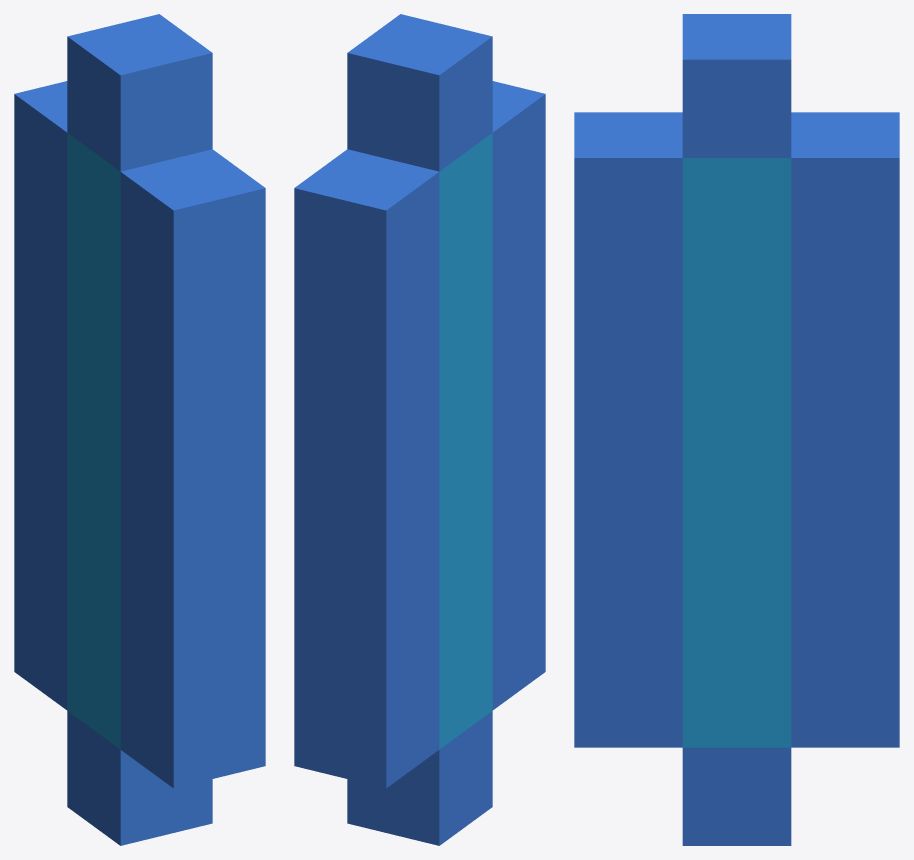
Rendered from AA_Proj_BlueBomber.fbx.
3 views of the same model, side by side, from view 1: azimuth 30°, elevation 25°; view 2: azimuth 150°, elevation 25°; view 3: azimuth 270°, elevation 25° (orthographic). The views are drawn at different scales.
Visible parts, largest first — view 1: Cube.080, Cube.064, Cube.096, Cube.063, Cube.032, Cube.031, Cube.127, Cube.001, Cube.078, Cube.112, Cube.079, Cube.047 (+8 smaller); view 2: Cube.080, Cube.078, Cube.110, Cube.049, Cube.046, Cube.017, Cube.113, Cube.001, Cube.064, Cube.112, Cube.079, Cube.047 (+8 smaller); view 3: Cube.080, Cube.078, Cube.064, Cube.111, Cube.016, Cube.112, Cube.079, Cube.048, Cube.047, Cube.001, Cube.127, Cube.113 (+8 smaller).
Part boxes in pixels (bbox=[...]): Cube.080: bbox=[67, 14, 212, 171]; Cube.064: bbox=[120, 149, 265, 306]; Cube.096: bbox=[120, 268, 265, 402]; Cube.063: bbox=[120, 557, 265, 691]; Cube.032: bbox=[120, 461, 265, 595]; Cube.031: bbox=[120, 654, 265, 788]; Cube.127: bbox=[120, 365, 265, 499]; Cube.001: bbox=[67, 711, 212, 845]; Cube.078: bbox=[14, 81, 67, 228]; Cube.112: bbox=[67, 325, 120, 460]; Cube.079: bbox=[67, 133, 120, 267]; Cube.047: bbox=[67, 422, 120, 556]; Cube.080: bbox=[347, 14, 492, 171]; Cube.078: bbox=[294, 149, 439, 306]; Cube.110: bbox=[294, 268, 439, 402]; Cube.049: bbox=[294, 557, 439, 691]; Cube.046: bbox=[294, 461, 439, 595]; Cube.017: bbox=[294, 654, 439, 788]; Cube.113: bbox=[294, 365, 439, 499]; Cube.001: bbox=[347, 711, 492, 845]; Cube.064: bbox=[492, 81, 545, 228]; Cube.112: bbox=[439, 325, 492, 460]; Cube.079: bbox=[439, 133, 492, 267]; Cube.047: bbox=[439, 422, 492, 556]; Cube.080: bbox=[682, 14, 791, 157]; Cube.078: bbox=[791, 112, 899, 256]; Cube.064: bbox=[574, 112, 682, 256]; Cube.111: bbox=[682, 256, 791, 354]; Cube.016: bbox=[682, 649, 791, 747]; Cube.112: bbox=[682, 354, 791, 452]; Cube.079: bbox=[682, 158, 791, 256]; Cube.048: bbox=[682, 551, 791, 649]; Cube.047: bbox=[682, 453, 791, 551]; Cube.001: bbox=[682, 747, 791, 845]; Cube.127: bbox=[574, 354, 682, 452]; Cube.113: bbox=[791, 354, 899, 452].
Size of the model in its own units: 200 by 1600 by 600.
